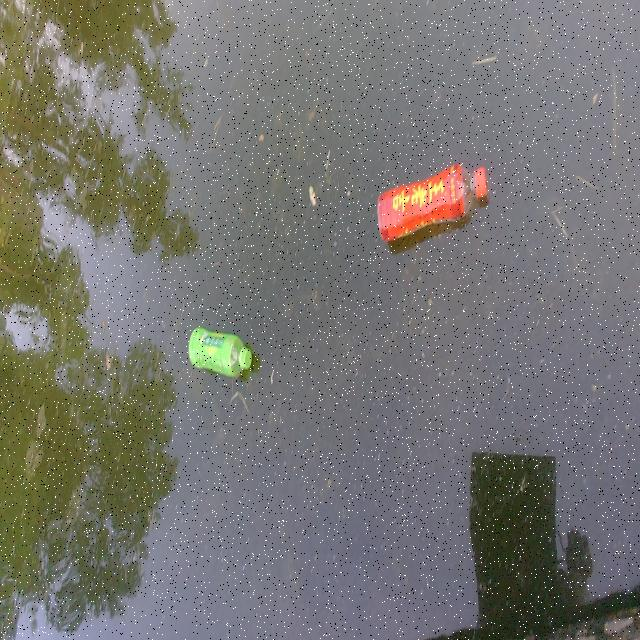Bottle: (373, 160, 490, 242), (186, 323, 256, 379)
